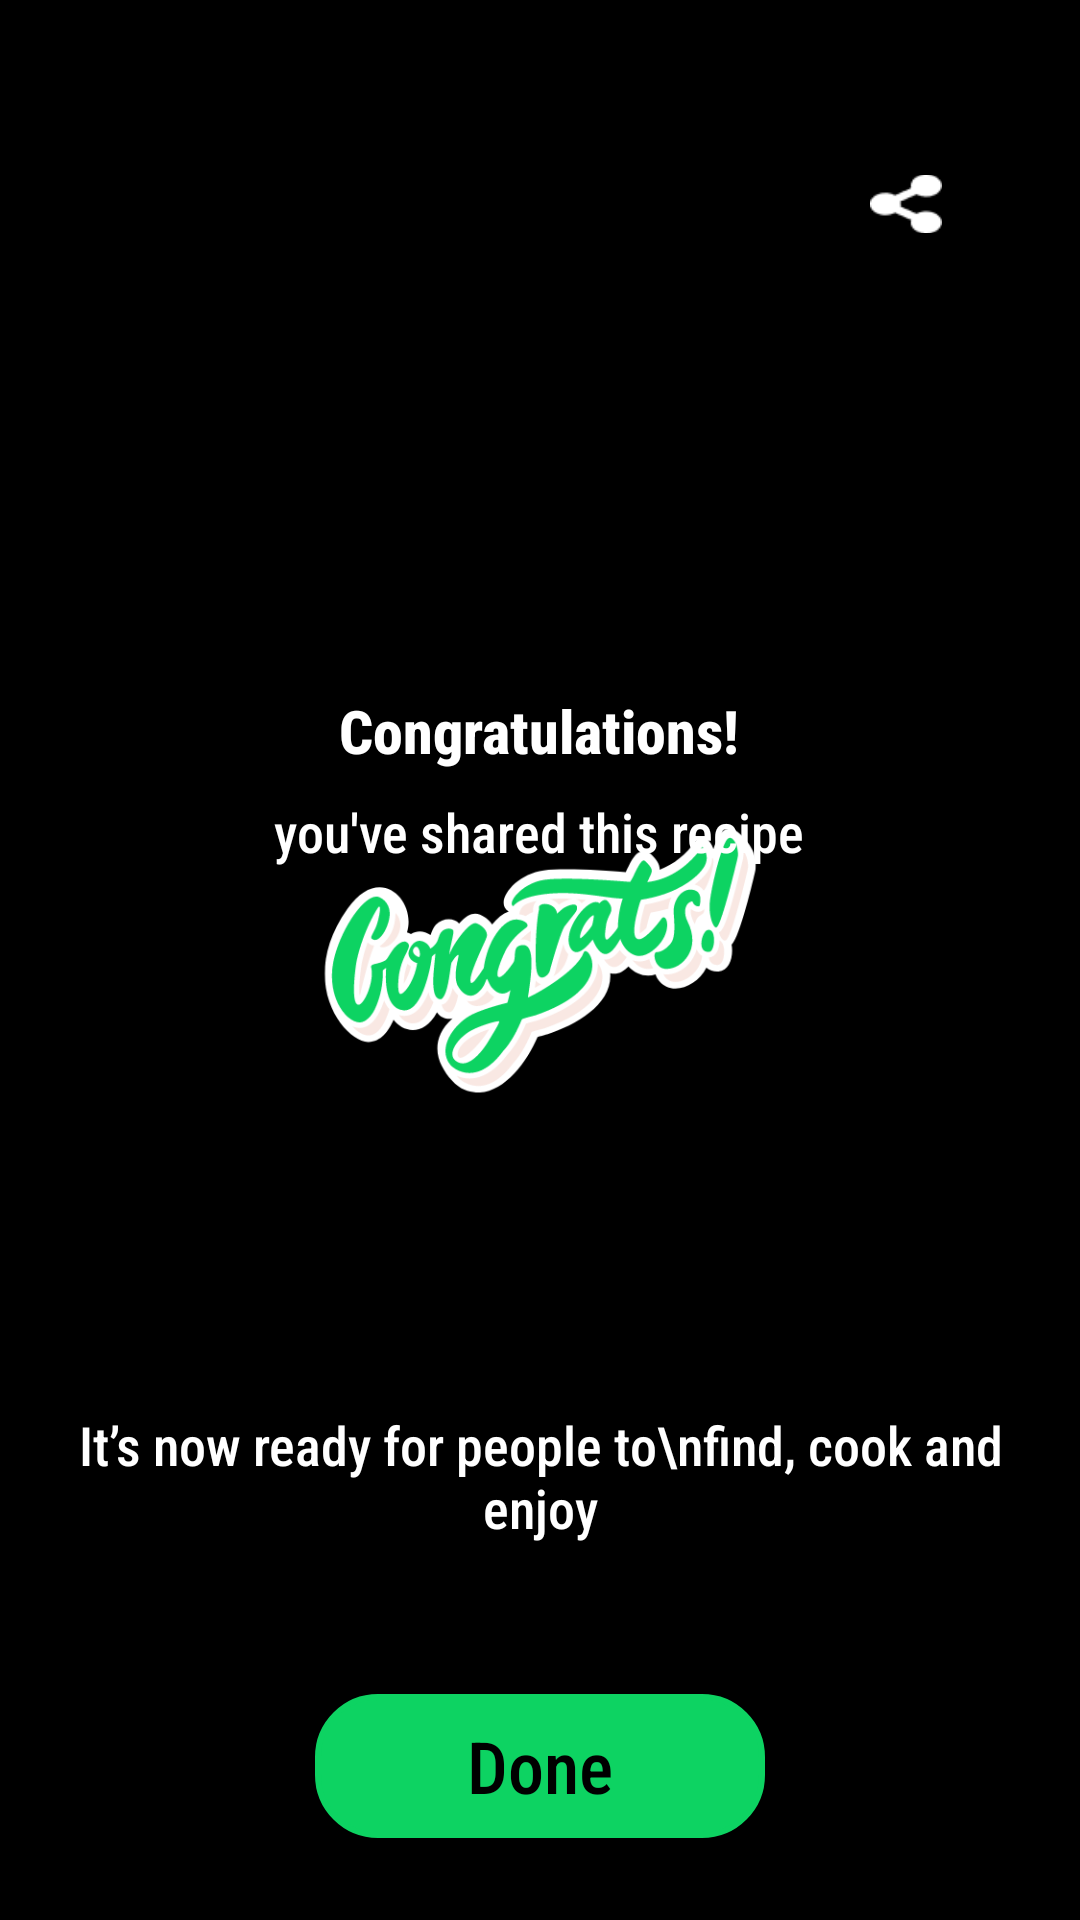

Point at icon controls on the screen. Image size 1080×1920, points as (x=x, y=y).
Share Icon: (x=906, y=204)
